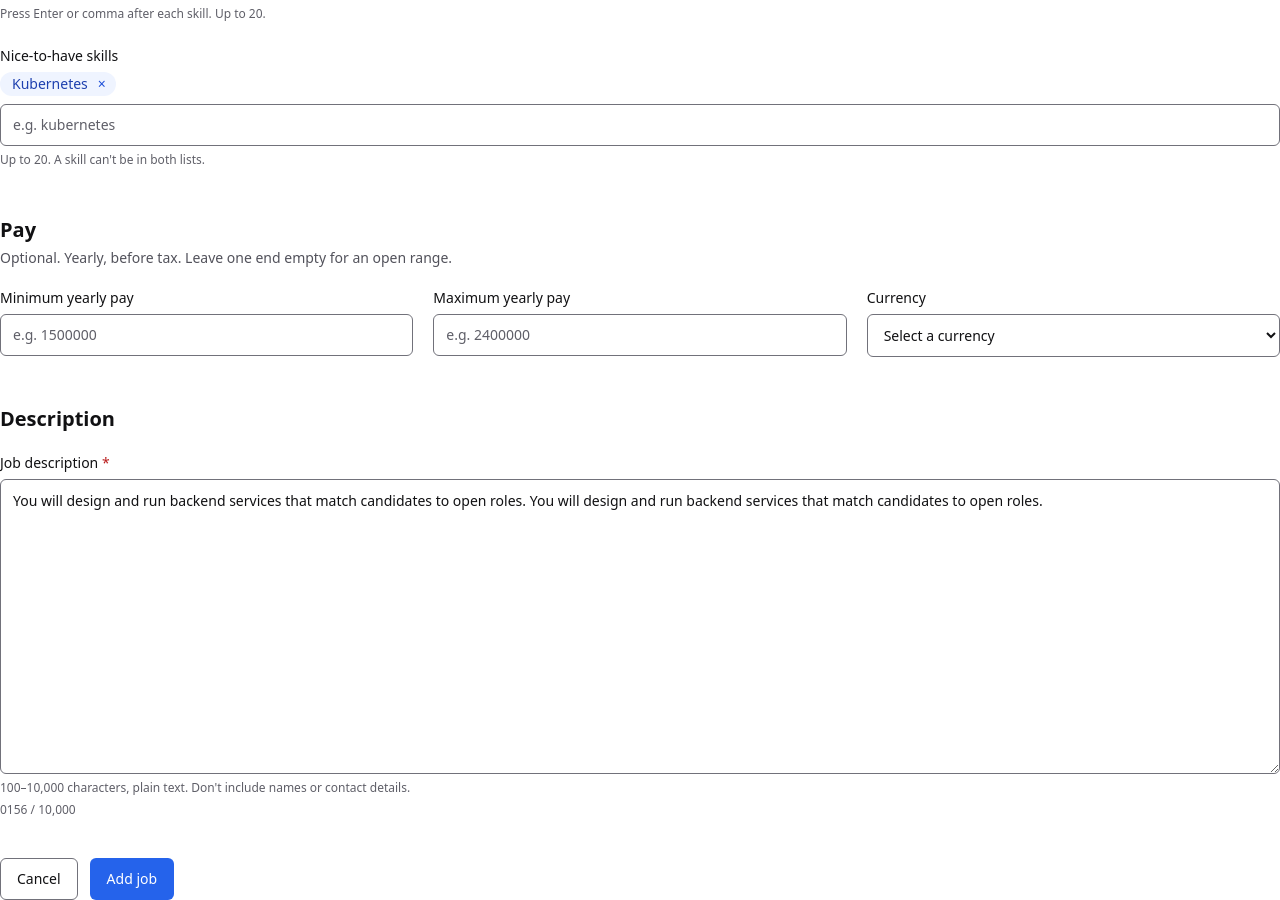
Test: JobForm › shows the conflict message when the job was changed by someone else
This screenshot has width=1280, height=900.
(page scrolled)
Click the button "Add job" at (132, 879), box top-left (90, 858), bottom-right (174, 899)
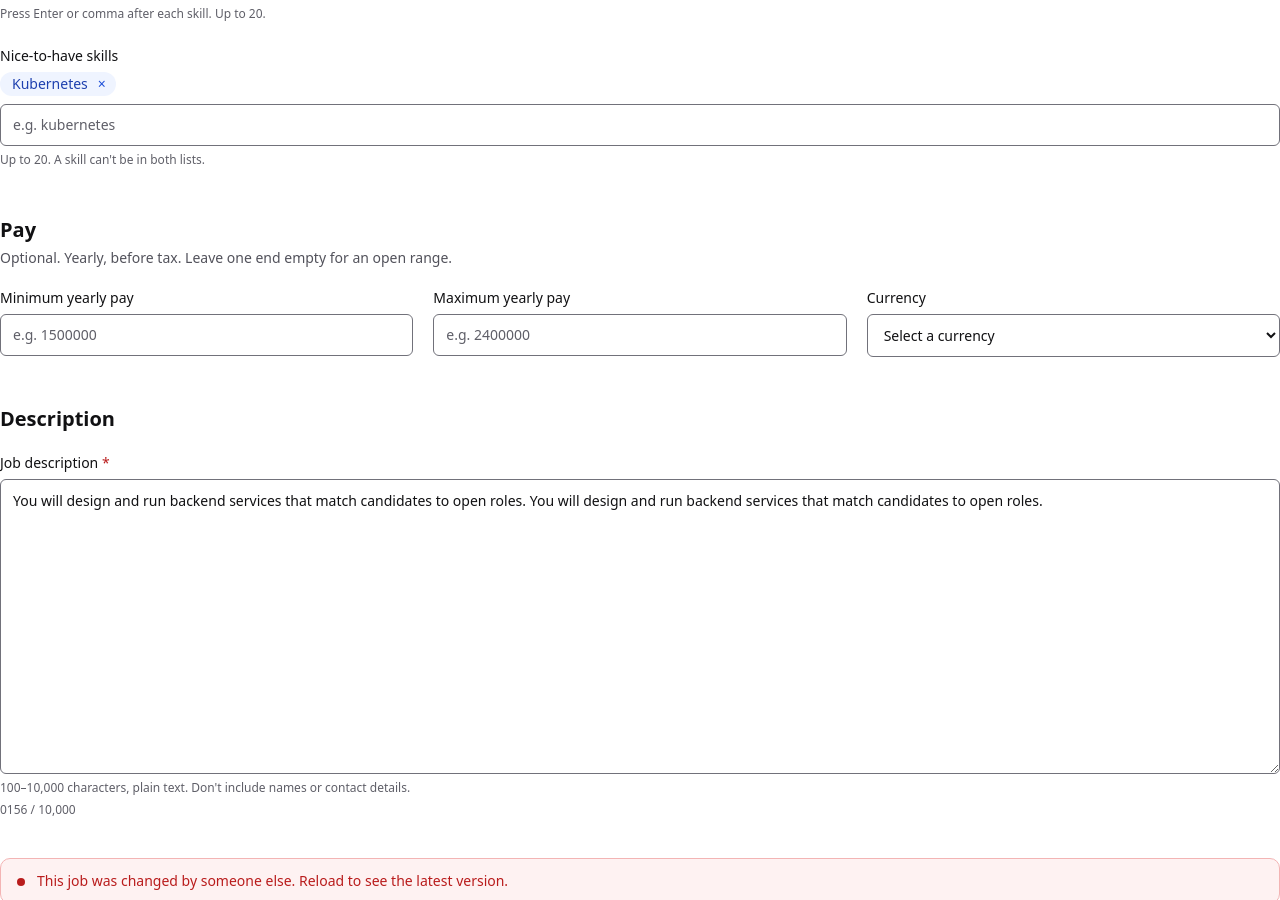
Expected: the text "This job was changed by someone else. Reload to see the latest version." is shown, top-left (37, 871), bottom-right (508, 891)
